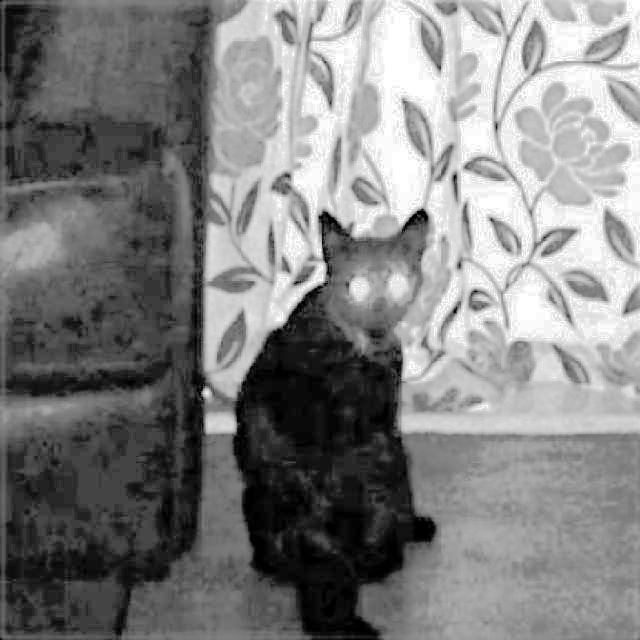Cat: (227, 207, 440, 640)
